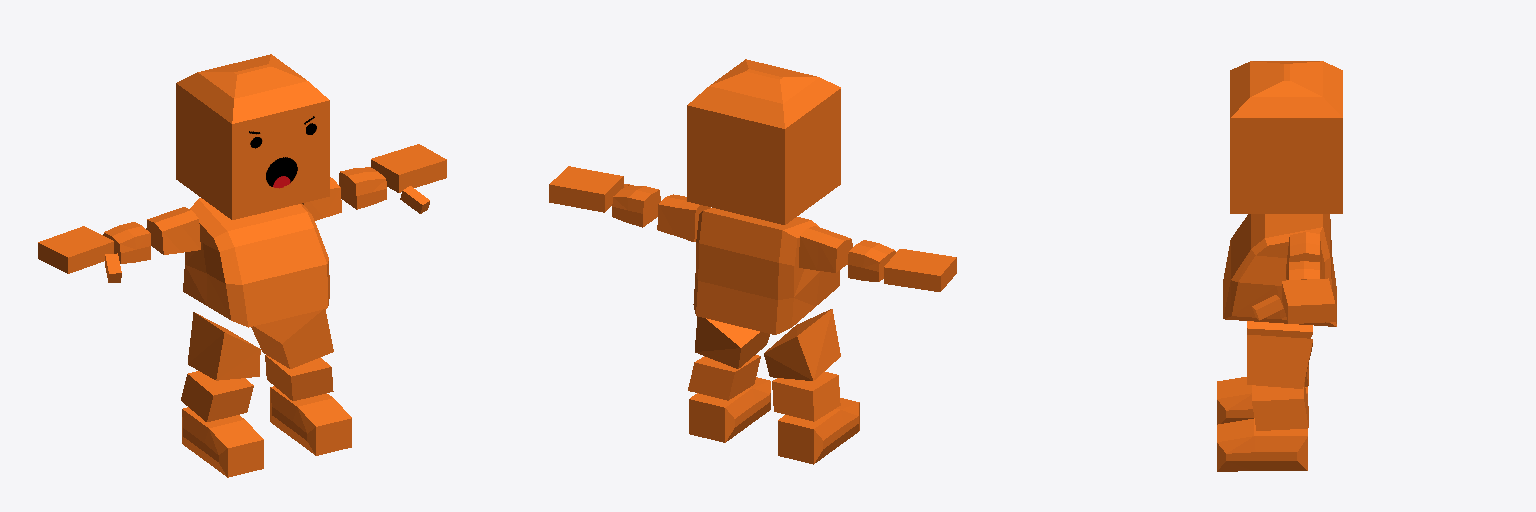
3 renders of one model, left to right at view 1: azimuth 30°, elevation 25°; view 2: azimuth 150°, elevation 25°; view 3: azimuth 270°, elevation 25°, orthographic.
Visible parts, largest first — view 1: Platformer; view 2: Platformer; view 3: Platformer.
Part boxes in pixels (bbox=[...]): Platformer: bbox=[38, 54, 446, 477]; Platformer: bbox=[549, 59, 956, 464]; Platformer: bbox=[1217, 61, 1342, 471].
Size of the model in its own units: 2.61 by 2.35 by 0.7313.
Materials: 1 (1 with a texture image).